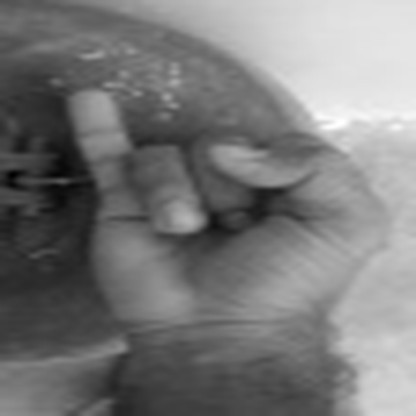i: (56, 84, 391, 336)
